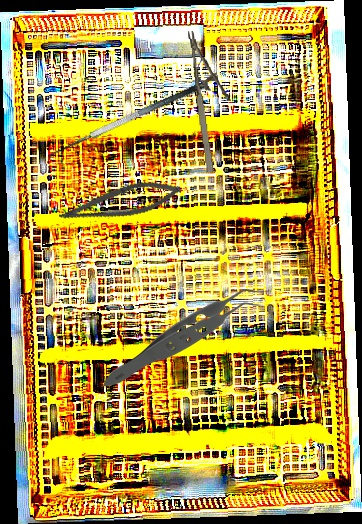Micro Scissor: (56, 171, 184, 236)
Needle Holder: (187, 27, 238, 173)
Spatula Surgical: (44, 80, 213, 169)
Tissue Forceps: (103, 289, 274, 387)
